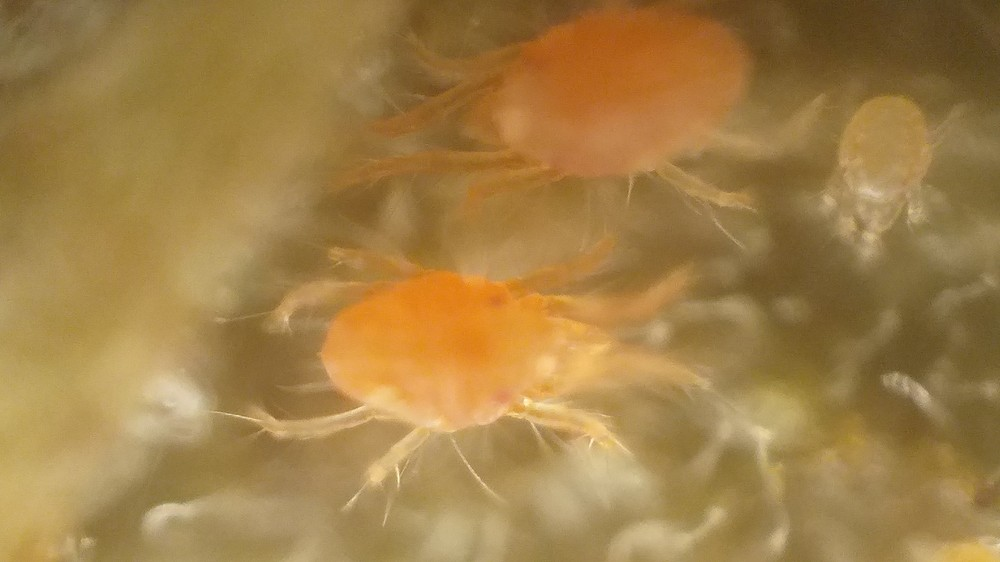Aracnido Rojo: (257, 211, 721, 496), (346, 10, 813, 221), (817, 86, 959, 275)
